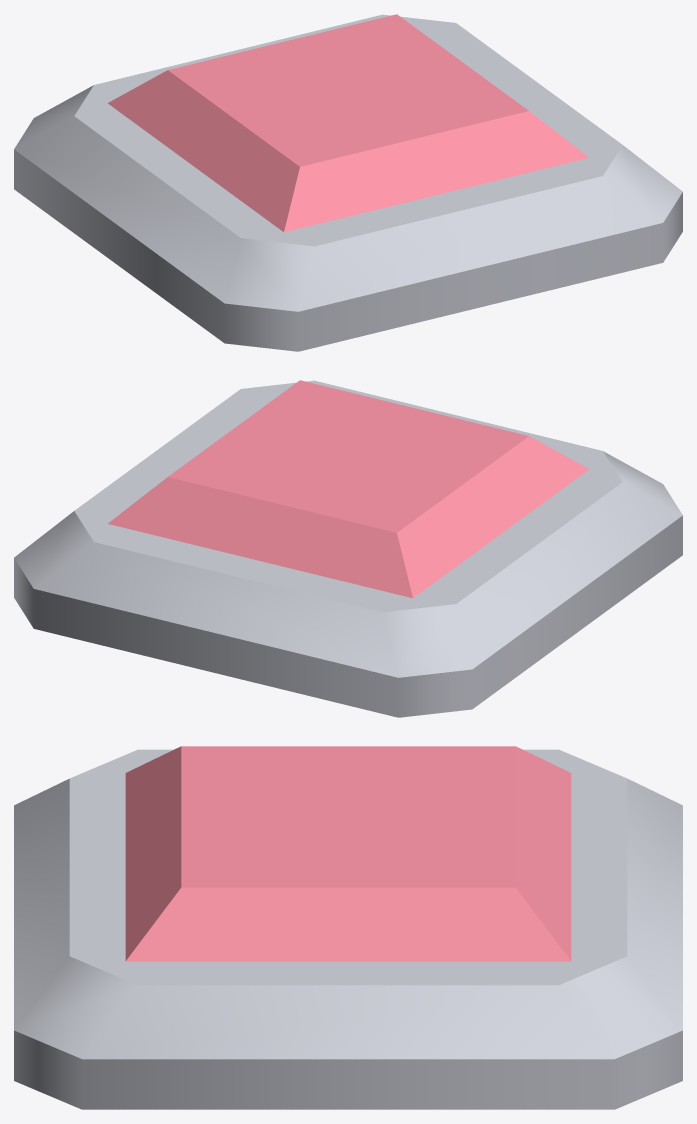
The picture shows the model from 3 angles, top to bottom: view 1: azimuth 30°, elevation 25°; view 2: azimuth 150°, elevation 25°; view 3: azimuth 270°, elevation 25°; orthographic projection. The views are drawn at different scales.
Parts seen in each view (by area): view 1: buttonSquare, knob; view 2: buttonSquare, knob; view 3: buttonSquare, knob.
Part boxes in pixels (x1=…): buttonSquare: x1=14, y1=14, x2=682, y2=351; knob: x1=108, y1=14, x2=588, y2=232; buttonSquare: x1=14, y1=380, x2=682, y2=717; knob: x1=108, y1=380, x2=588, y2=598; buttonSquare: x1=14, y1=749, x2=682, y2=1109; knob: x1=125, y1=746, x2=571, y2=961.
Bounding box in the file's own units: 0.6 × 0.15 × 0.6.
